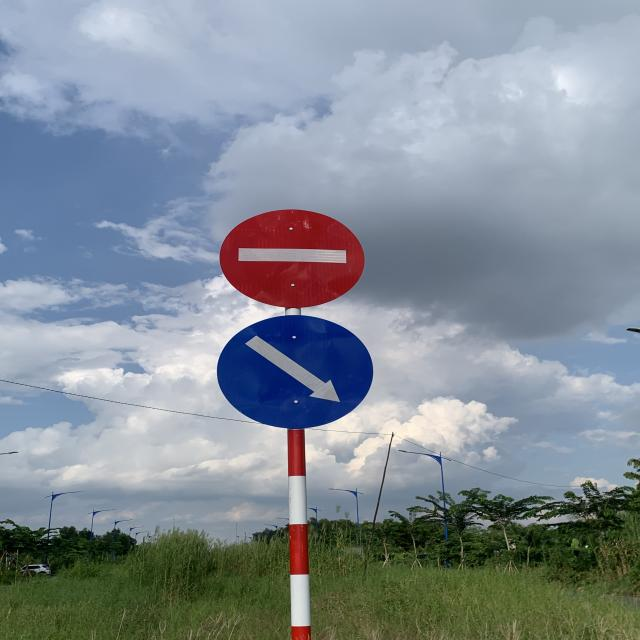Cam_Di_Nguoc_Chieu: (220, 209, 366, 310)
Chi_Huong_Di_Phai: (218, 313, 376, 433)
